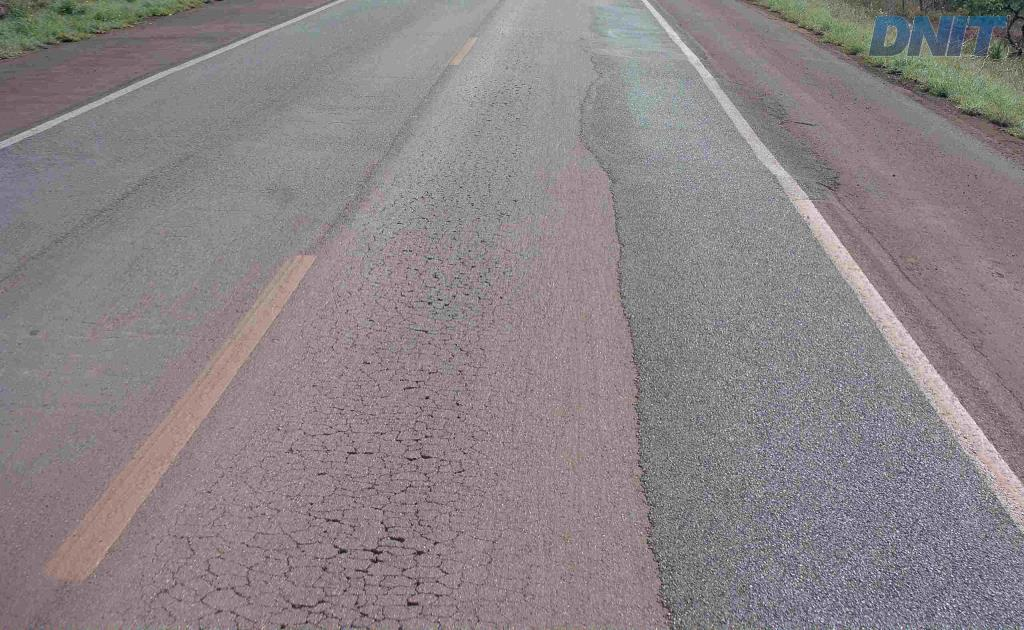crack: (354, 519, 432, 577), (276, 562, 351, 613)
